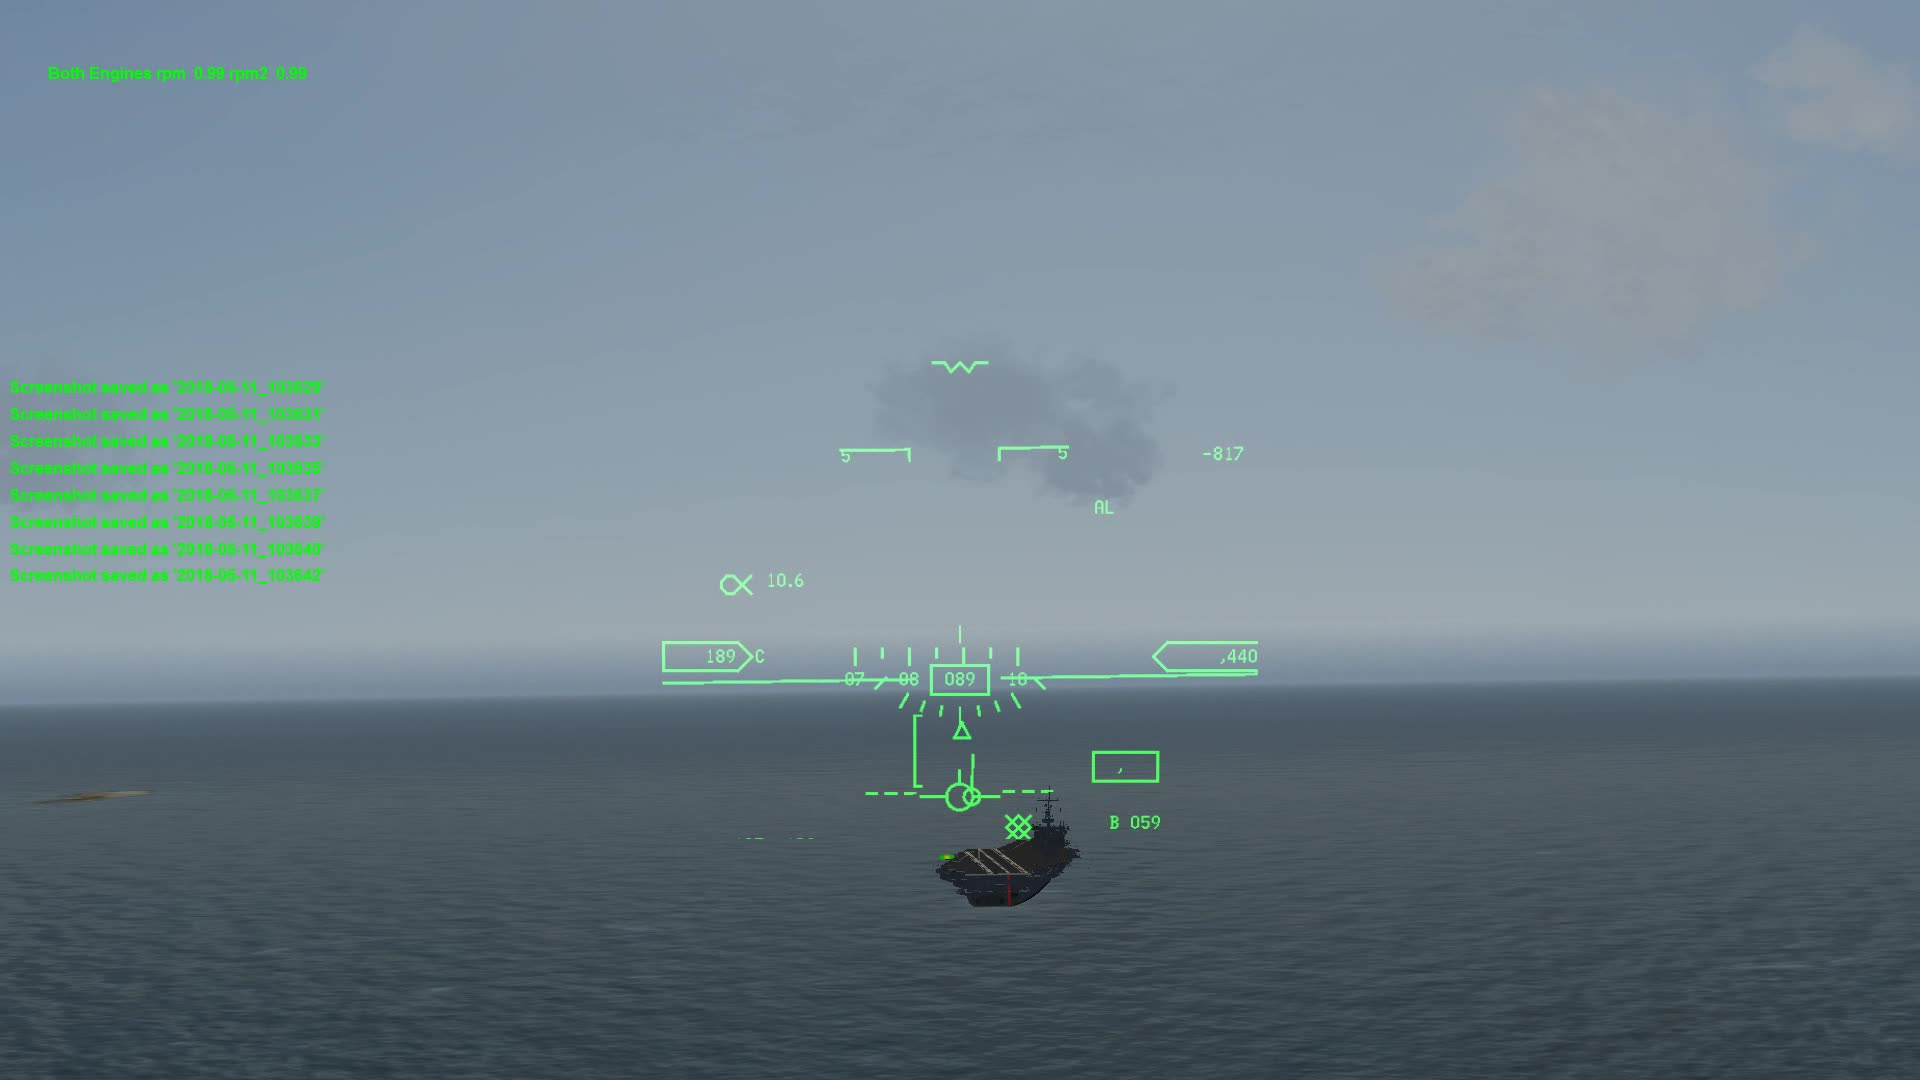speed vector: (915, 769, 1002, 822)
